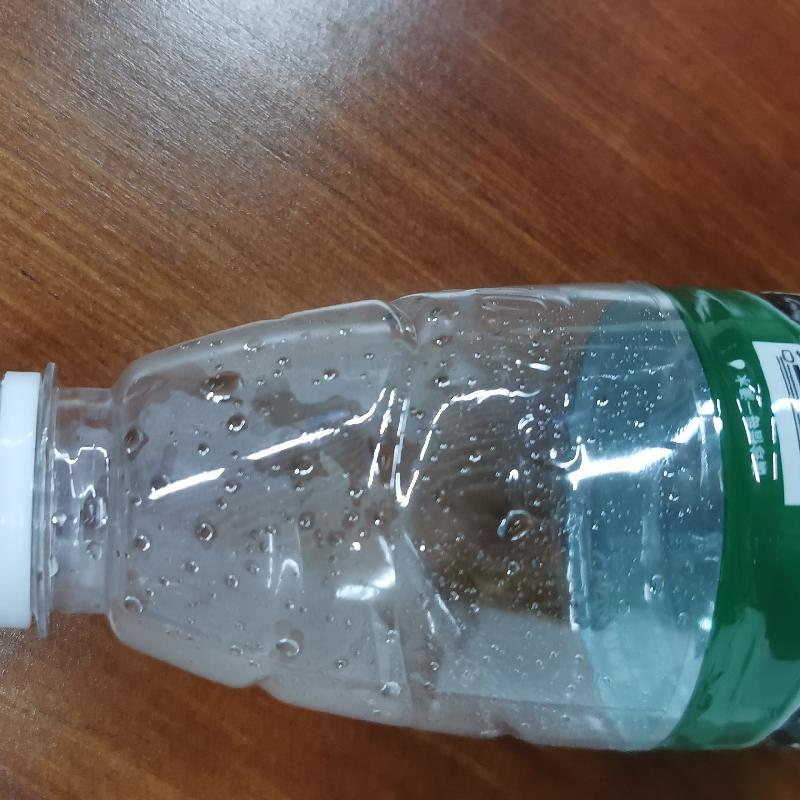bottles: (3, 278, 799, 759)
